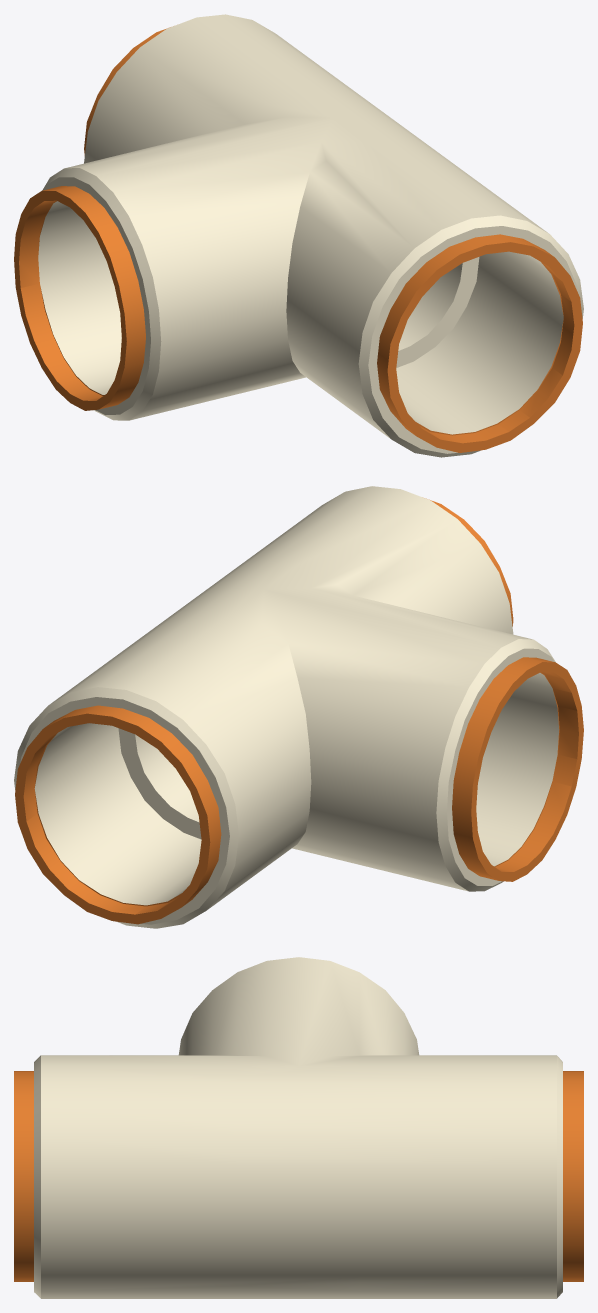
File: pipes_supply__water_heater__ffddf92d.glb
3 views of the same model, one above another, from view 1: azimuth 30°, elevation 25°; view 2: azimuth 150°, elevation 25°; view 3: azimuth 270°, elevation 25° (orthographic). The views are drawn at different scales.
Visible parts, largest first — view 1: fit_tee_pipe_supply_hot_wh_attic; view 2: fit_tee_pipe_supply_hot_wh_attic; view 3: fit_tee_pipe_supply_hot_wh_attic.
Part boxes in pixels (x1=…): fit_tee_pipe_supply_hot_wh_attic: x1=14, y1=14, x2=583, y2=457; fit_tee_pipe_supply_hot_wh_attic: x1=14, y1=486, x2=583, y2=928; fit_tee_pipe_supply_hot_wh_attic: x1=14, y1=957, x2=583, y2=1298.
Size of the model in its own units: 0.0477 by 0.0286 by 0.0667.
